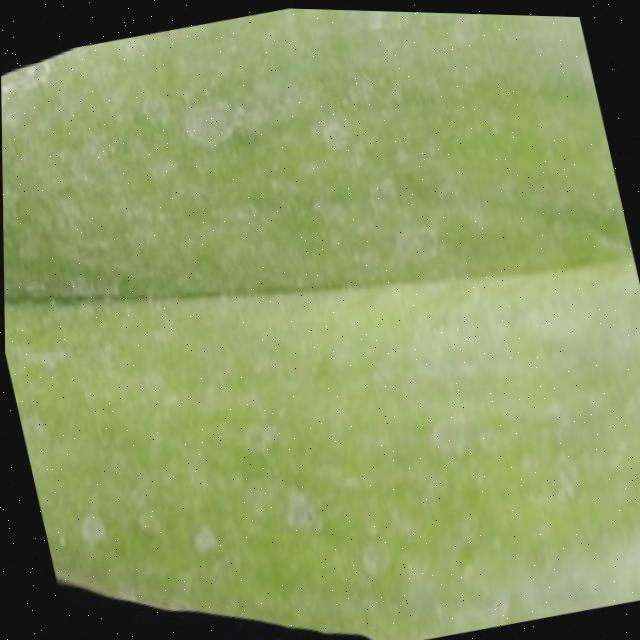mite: (65, 460, 329, 581), (130, 62, 279, 180), (175, 92, 243, 150)
sunburn: (43, 473, 379, 640)
